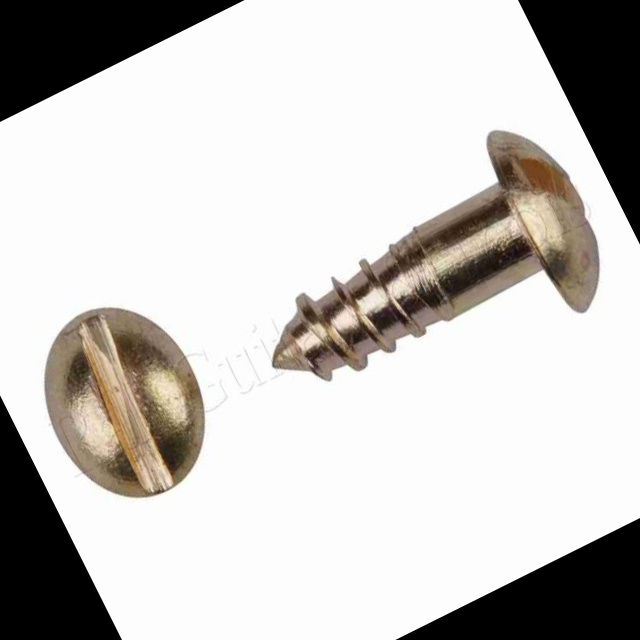duz: (10, 278, 236, 525)
